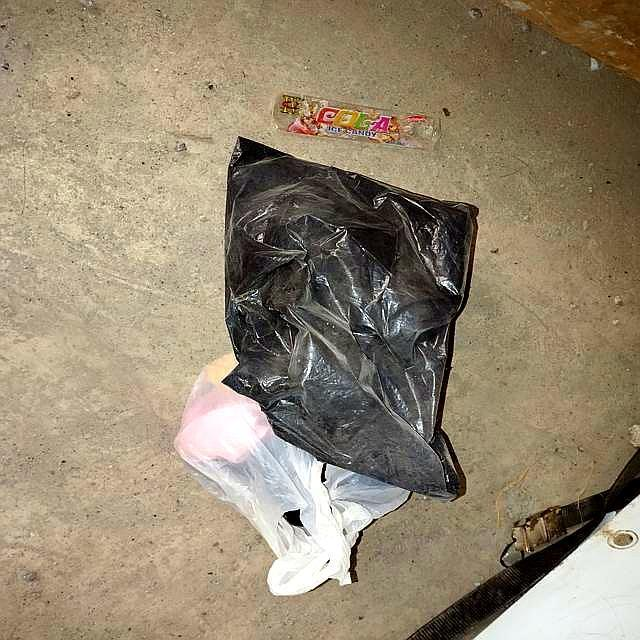Non-biodegradable: (151, 128, 486, 625), (268, 91, 445, 155)
